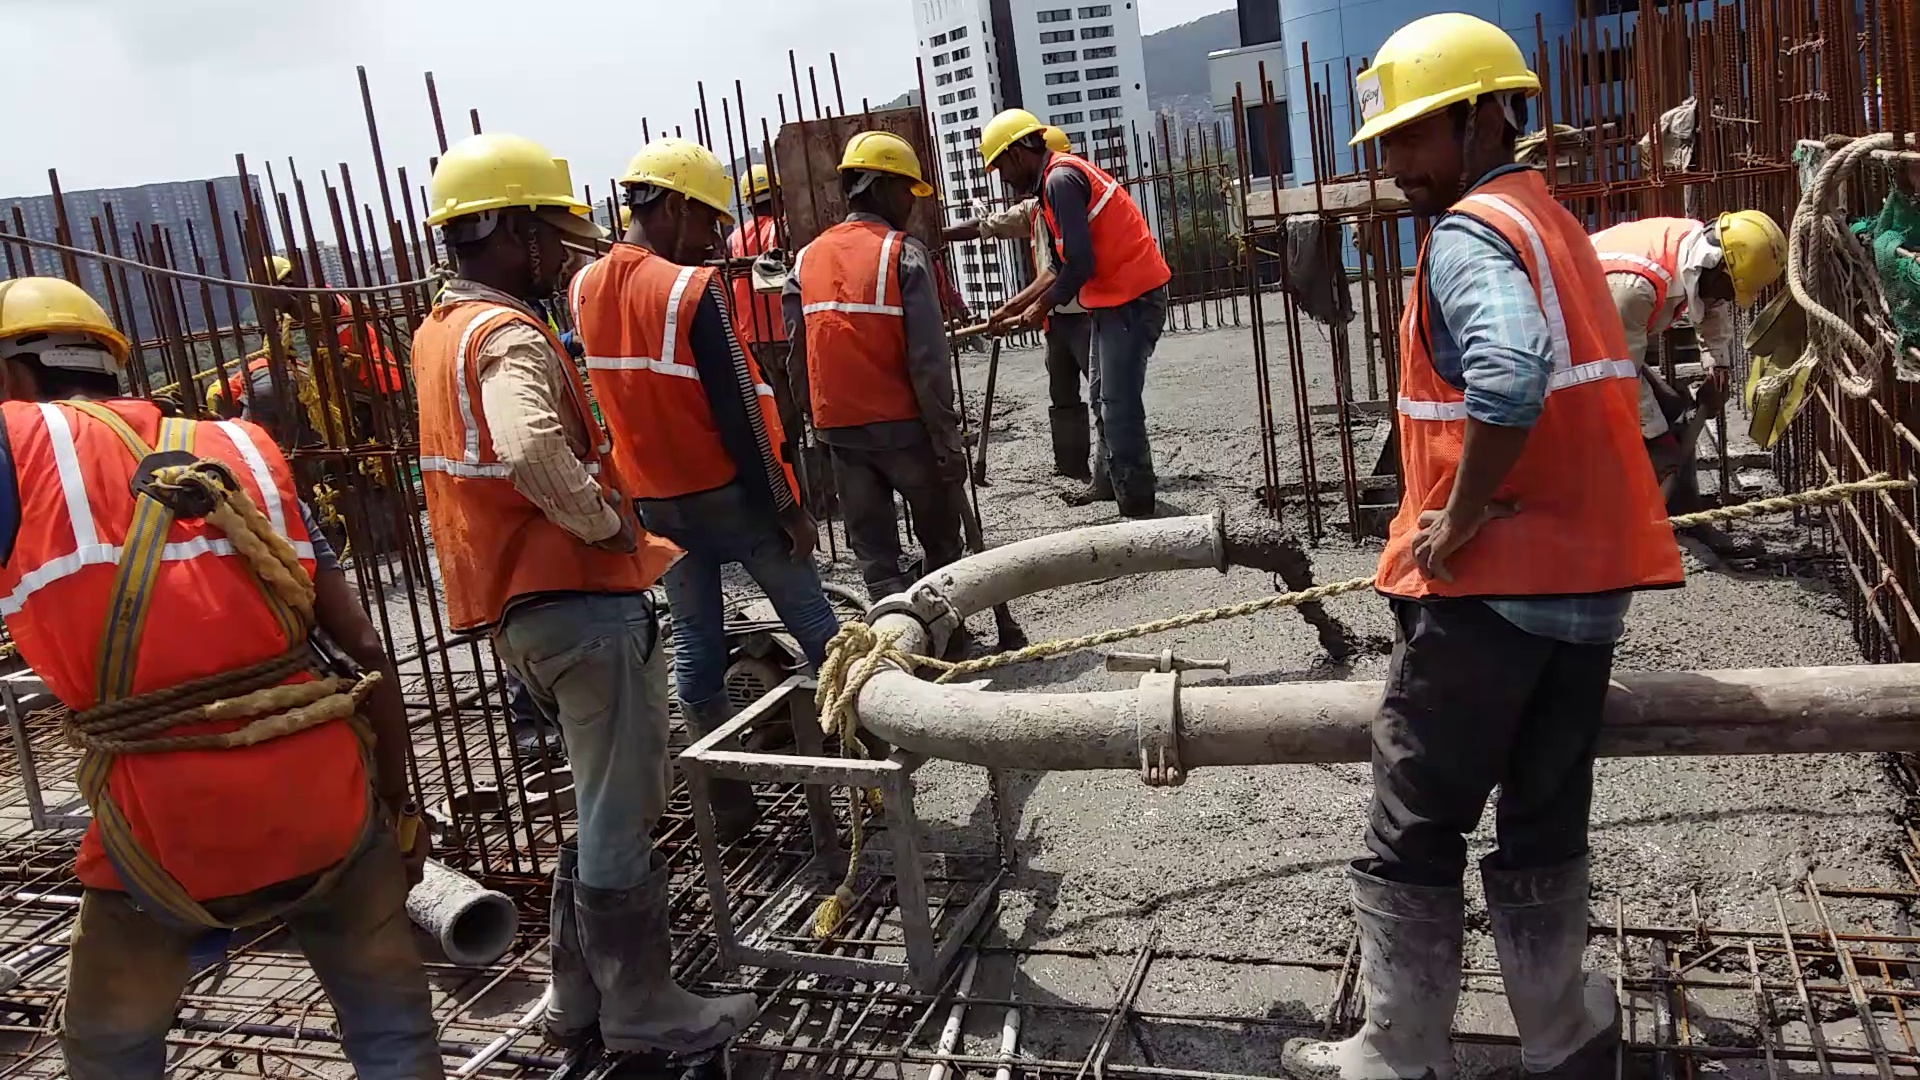SAFE: (1, 272, 309, 886), (1356, 12, 1602, 593), (414, 128, 597, 612), (605, 131, 732, 509), (977, 109, 1172, 307), (800, 133, 920, 430)
